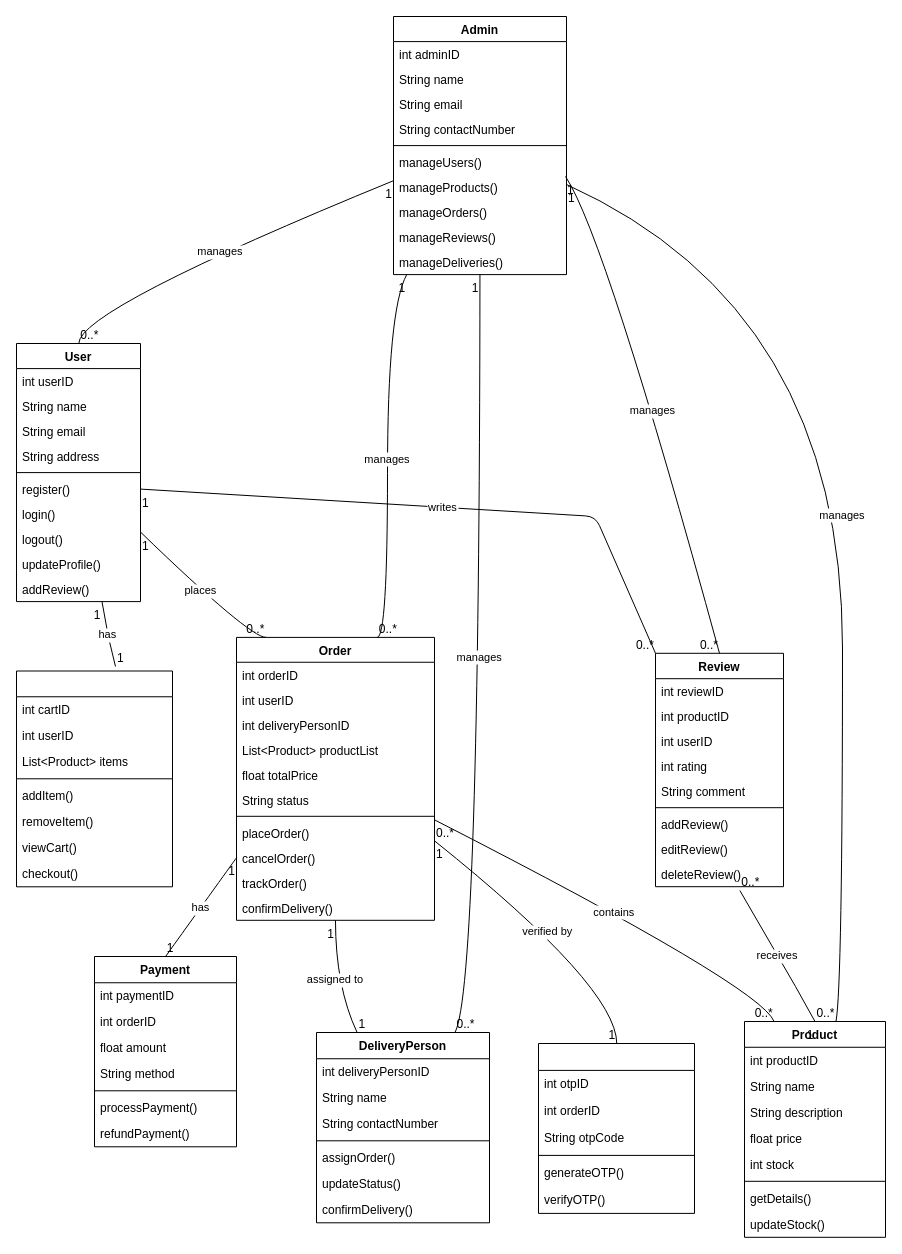
The diagram is 902 pixels wide and 1254 high, and some of its shapes have lost their labels. Each missing label, with the box of its shape:
OTPAuthentication: (538, 1042, 694, 1213)
ShoppingCart: (16, 670, 172, 887)
